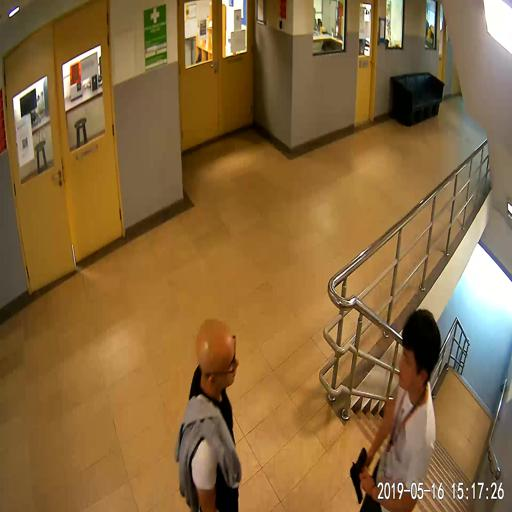pistol: (350, 447, 367, 503)
